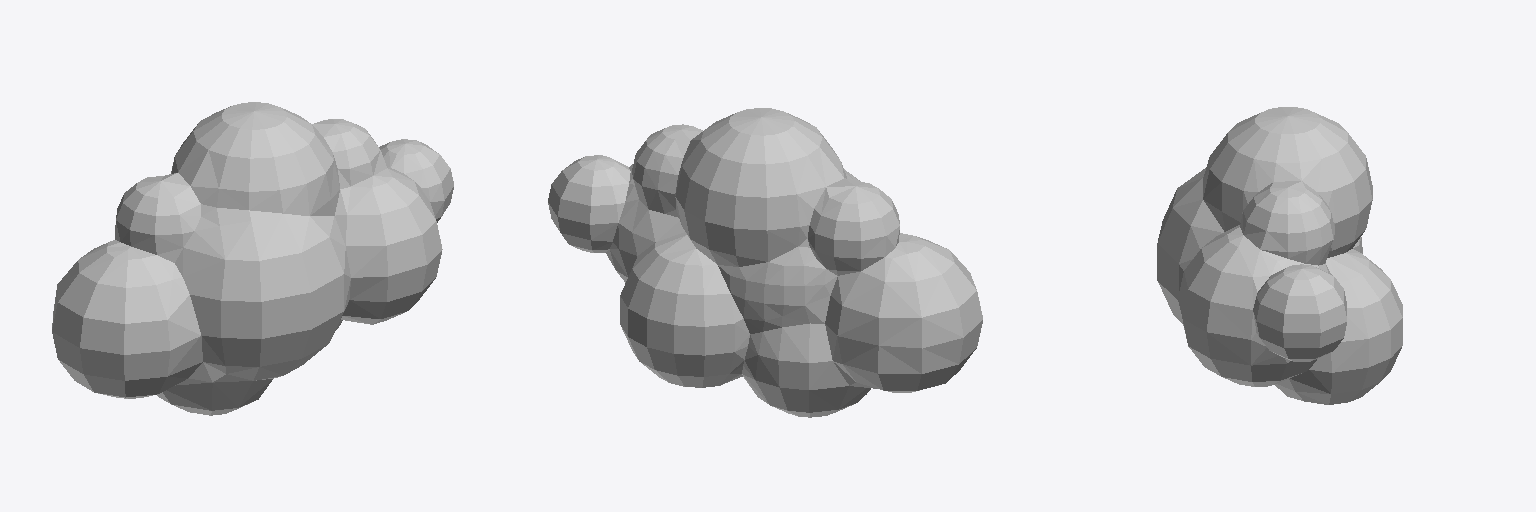
File: cloud2.obj
3 views of the same model, side by side, from view 1: azimuth 30°, elevation 25°; view 2: azimuth 150°, elevation 25°; view 3: azimuth 270°, elevation 25° (orthographic).
Parts seen in each view (by area): view 1: Cloud.001_Sphere.001; view 2: Cloud.001_Sphere.001; view 3: Cloud.001_Sphere.001.
Part boxes in pixels (x1,y1,x2,y2): Cloud.001_Sphere.001: (52, 102, 453, 415); Cloud.001_Sphere.001: (548, 108, 982, 417); Cloud.001_Sphere.001: (1157, 107, 1402, 404).
Size of the model in its own units: 1.35 by 0.9127 by 0.7194.